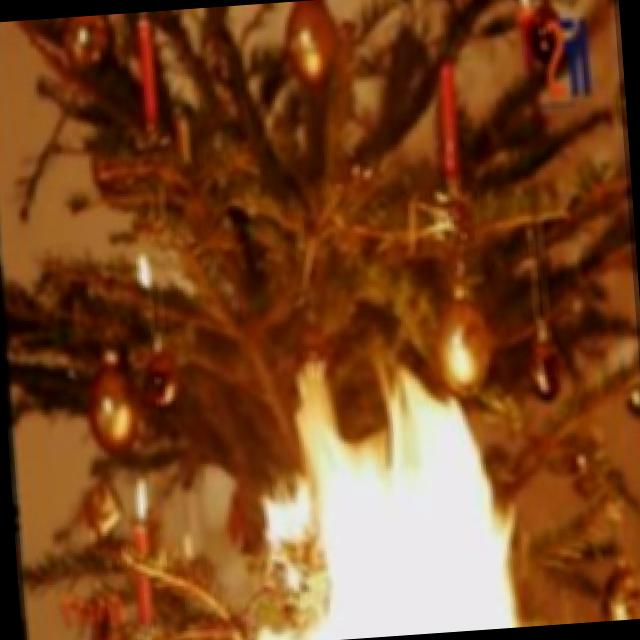fire: (225, 350, 548, 640)
